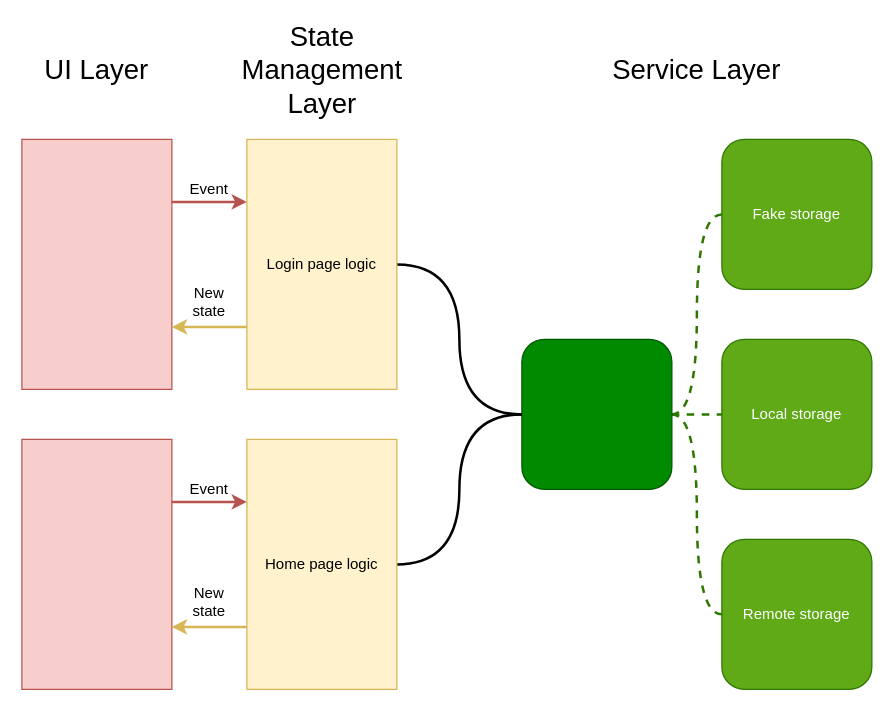
This 894x711 diagram has some shape labels left out. Here are the shapes that lost their labels. From the top down, the centre of each, then its label:
the point at 96,263: Login page UI
the point at 596,413: Storage service
the point at 96,563: Home page UI
